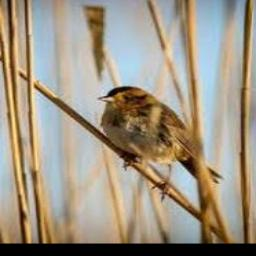Sparrow: (98, 85, 223, 199)
